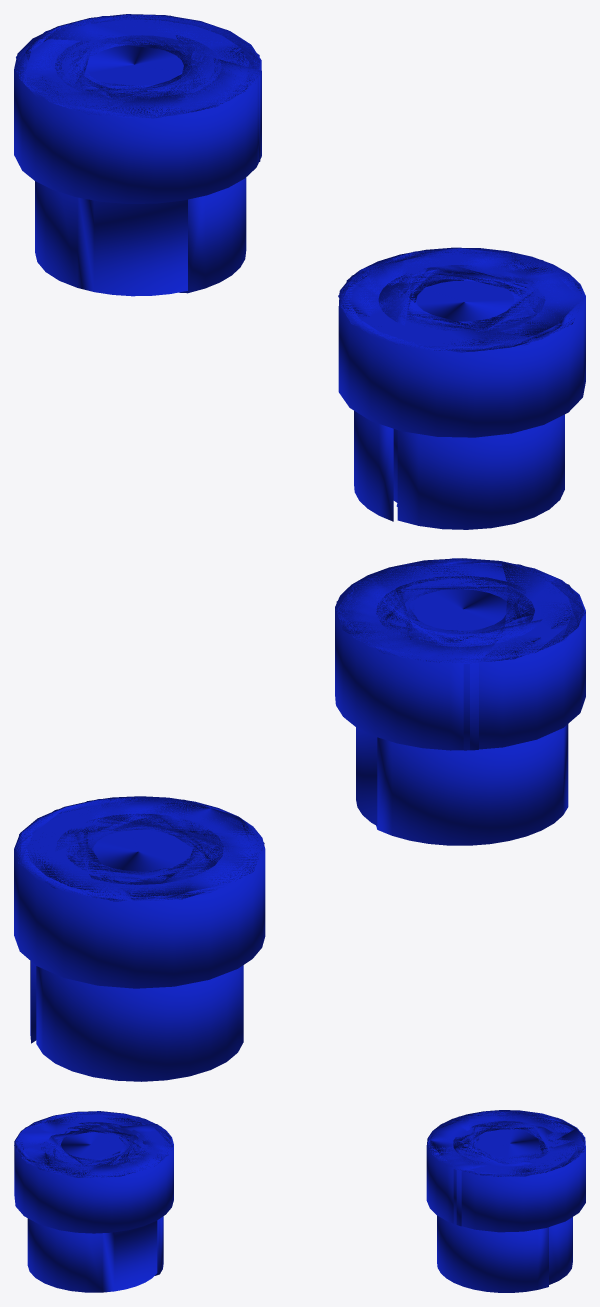
Rendered from tuyeau_element_000025.obj.
3 renders of one model, top to bottom at view 1: azimuth 30°, elevation 25°; view 2: azimuth 150°, elevation 25°; view 3: azimuth 270°, elevation 25°, orthographic. The views are drawn at different scales.
Parts seen in each view (by area): view 1: tuyeau1_Cube.014, tuyeau2_Cube.017; view 2: tuyeau2_Cube.017, tuyeau1_Cube.014; view 3: tuyeau1_Cube.014, tuyeau2_Cube.017.
Boxes of the visible parts, <box> form: tuyeau1_Cube.014: <box>14,14,261,296</box>; tuyeau2_Cube.017: <box>338,247,585,529</box>; tuyeau2_Cube.017: <box>335,558,585,845</box>; tuyeau1_Cube.014: <box>14,796,265,1081</box>; tuyeau1_Cube.014: <box>426,1110,585,1292</box>; tuyeau2_Cube.017: <box>14,1111,173,1292</box>.
Size of the model in its own units: 3582 by 2917 by 12610.
